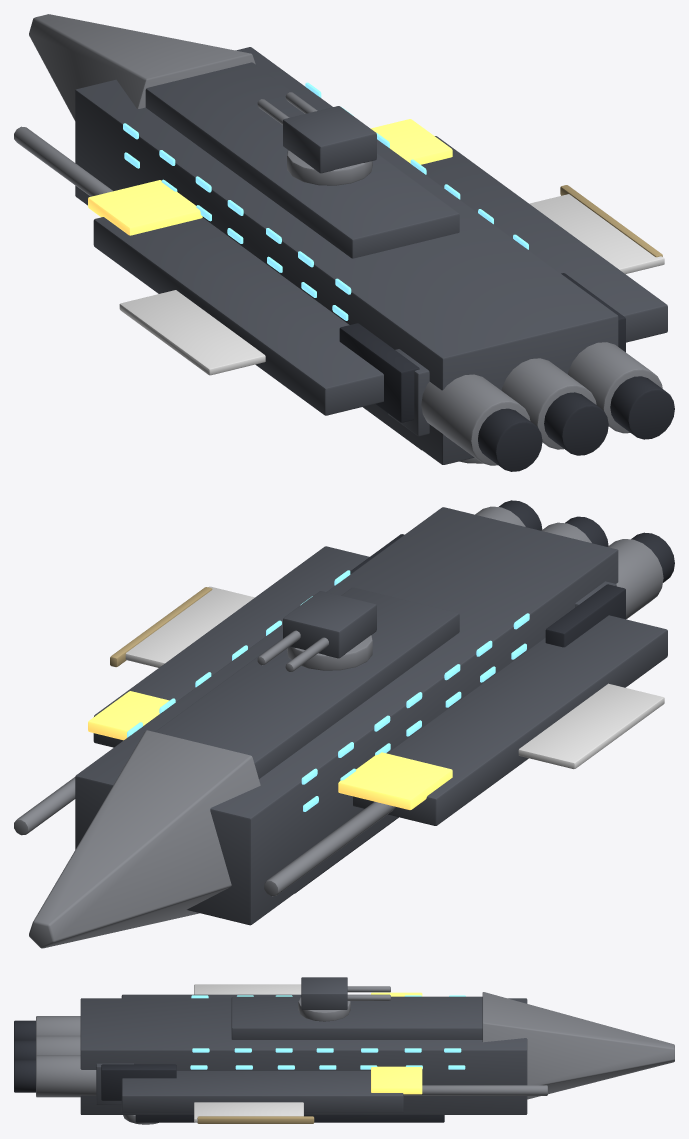
Rendered from corvette.glb.
3 renders of one model, top to bottom at view 1: azimuth 30°, elevation 25°; view 2: azimuth 150°, elevation 25°; view 3: azimuth 270°, elevation 25°, orthographic. The views are drawn at different scales.
Parts seen in each view (by area): view 1: corvette; view 2: corvette; view 3: corvette.
Part boxes in pixels (<box>): corvette: <box>14,14,674,471</box>; corvette: <box>14,500,674,948</box>; corvette: <box>14,977,674,1124</box>.
Bounding box in the file's own units: 9.32 × 4.18 × 19.24.
